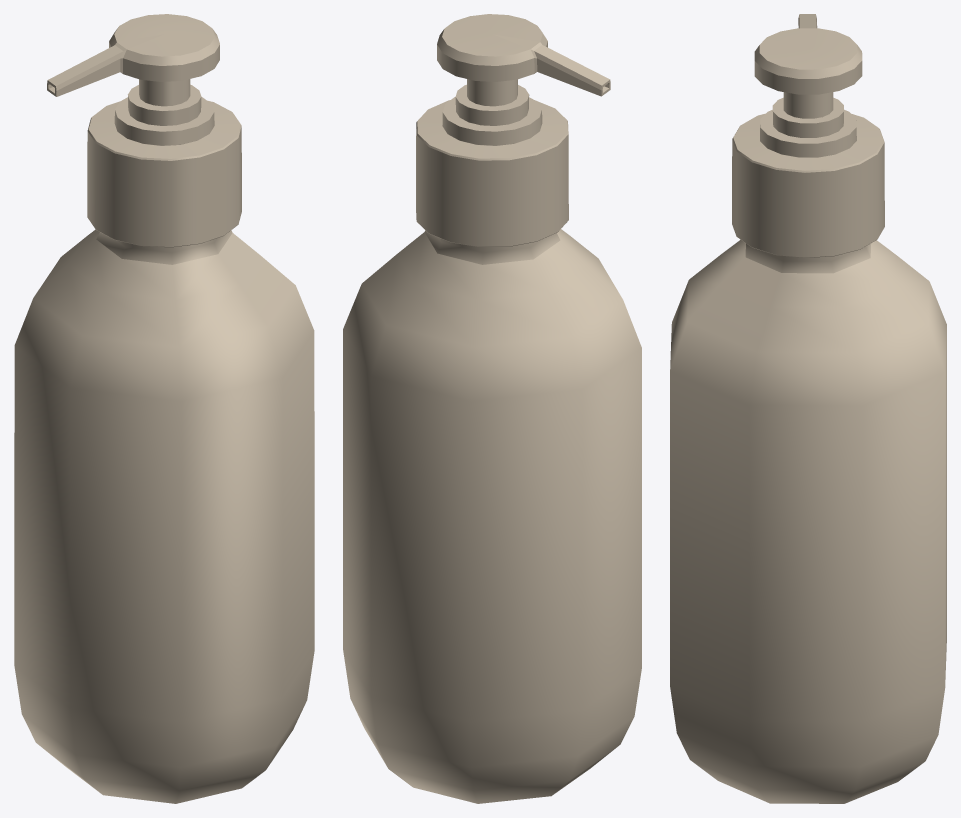
File: bottles_27_L.fbx
The picture shows the model from 3 angles, left to right: view 1: azimuth 30°, elevation 25°; view 2: azimuth 150°, elevation 25°; view 3: azimuth 270°, elevation 25°; orthographic projection.
Parts seen in each view (by area): view 1: bottles_27_L; view 2: bottles_27_L; view 3: bottles_27_L.
Boxes of the visible parts, x1,y1,x2,y2 form: bottles_27_L: (14,14,314,803); bottles_27_L: (343,14,641,803); bottles_27_L: (670,14,946,803).
Size of the model in its own units: 1.32 by 3.78 by 1.32.
